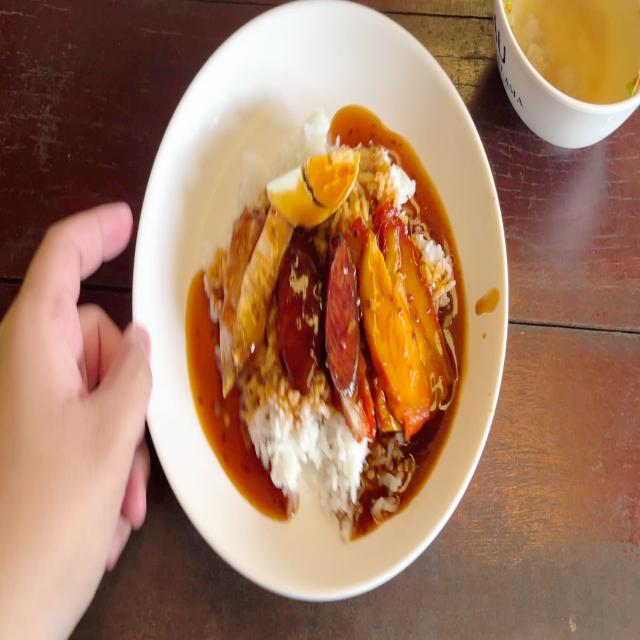boiled_egg: (270, 145, 354, 213)
chainese_sausage: (277, 238, 357, 386)
crispy_pork: (212, 211, 288, 367)
red_pork: (368, 221, 436, 422)
red_pork_and_crispy_pork: (205, 113, 446, 518)
rice: (296, 402, 354, 504), (246, 382, 305, 479)
